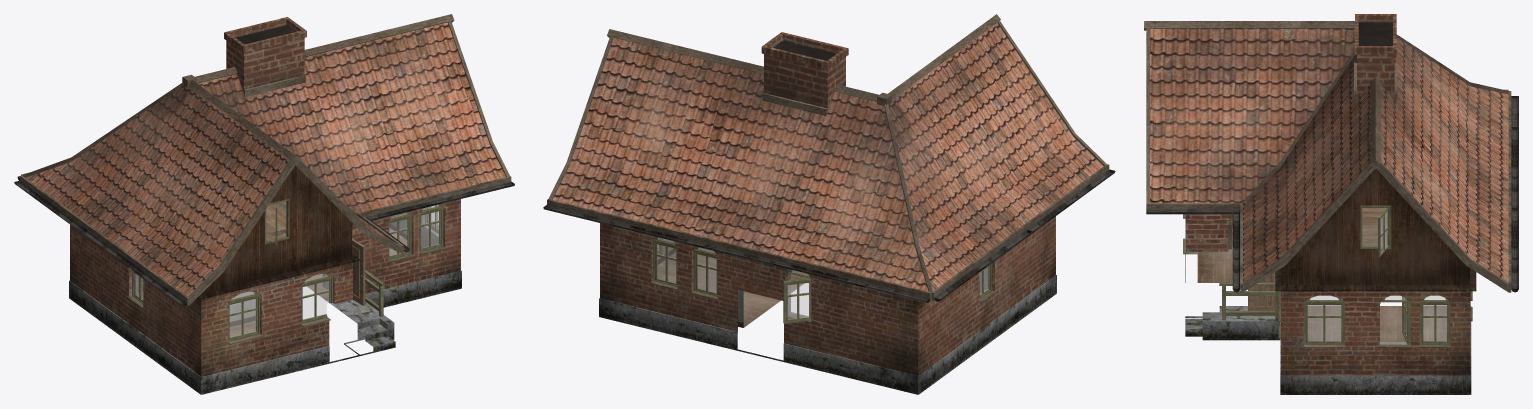
Rendered from SM_OldCottage.glb.
3 views of the same model, side by side, from view 1: azimuth 30°, elevation 25°; view 2: azimuth 150°, elevation 25°; view 3: azimuth 270°, elevation 25° (orthographic). The views are drawn at different scales.
Parts seen in each view (by area): view 1: SM_OldCottage; view 2: SM_OldCottage; view 3: SM_OldCottage.
Part boxes in pixels (x1,y1,x2,y2): SM_OldCottage: (14,14,514,394); SM_OldCottage: (543,14,1115,394); SM_OldCottage: (1144,14,1518,394).
Size of the model in its own units: 16.35 by 10.86 by 13.
Materials: 4 (3 with a texture image).
